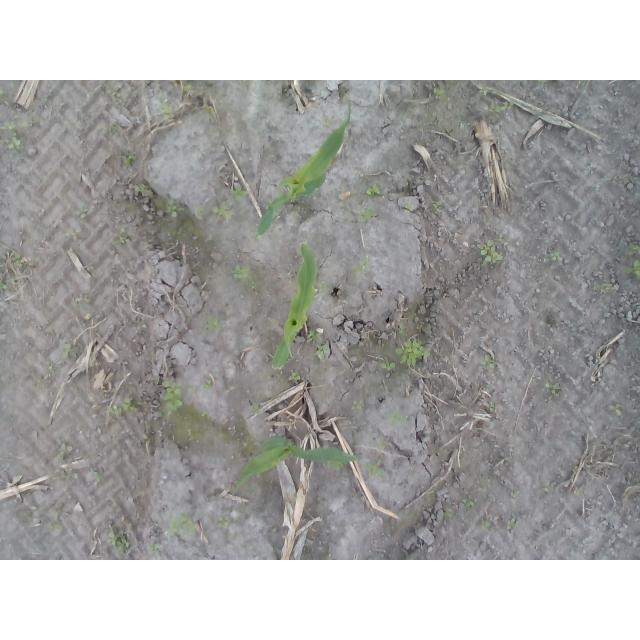Maize: (254, 97, 350, 236), (233, 434, 363, 487), (271, 240, 317, 371)
Weeds: (395, 337, 432, 367), (166, 512, 198, 537), (161, 383, 184, 417), (479, 239, 505, 266), (231, 264, 257, 289), (107, 528, 130, 555), (109, 399, 140, 418), (1, 131, 26, 154), (306, 116, 335, 132), (160, 94, 177, 121), (111, 224, 130, 248), (164, 200, 185, 219), (484, 100, 513, 113), (0, 119, 34, 130), (211, 207, 234, 223), (592, 280, 620, 293), (623, 259, 640, 280), (365, 460, 385, 477), (228, 186, 248, 203), (351, 255, 369, 273), (479, 352, 497, 369), (205, 316, 223, 333), (64, 344, 81, 361), (544, 383, 560, 401), (359, 206, 377, 222), (170, 80, 192, 93), (121, 152, 137, 169), (56, 444, 73, 460), (391, 411, 409, 426), (543, 251, 561, 264), (367, 184, 383, 198), (608, 404, 625, 417), (380, 360, 397, 373), (622, 243, 640, 255), (78, 200, 88, 220), (313, 345, 327, 359), (432, 87, 449, 97), (64, 229, 81, 239), (462, 498, 475, 511), (249, 401, 261, 415), (288, 371, 302, 383), (215, 516, 229, 528), (15, 255, 26, 270), (325, 463, 343, 472), (319, 280, 337, 289), (506, 519, 520, 530), (351, 400, 363, 412), (149, 542, 161, 554), (307, 330, 320, 341), (194, 207, 205, 219), (481, 519, 494, 529), (208, 105, 216, 121), (49, 521, 63, 530), (479, 86, 490, 97), (111, 87, 122, 98), (375, 438, 385, 450), (82, 263, 94, 272), (399, 321, 406, 336), (135, 183, 145, 193), (95, 471, 105, 481), (0, 88, 8, 100), (488, 400, 496, 412), (71, 296, 81, 305), (573, 488, 583, 497), (430, 200, 438, 211), (543, 481, 550, 493), (111, 124, 118, 135), (1, 279, 8, 290), (536, 80, 544, 89), (440, 511, 449, 519), (426, 490, 435, 498), (404, 203, 413, 210), (630, 479, 640, 485), (47, 359, 53, 369), (478, 160, 484, 169), (201, 411, 208, 418), (202, 383, 210, 389)
